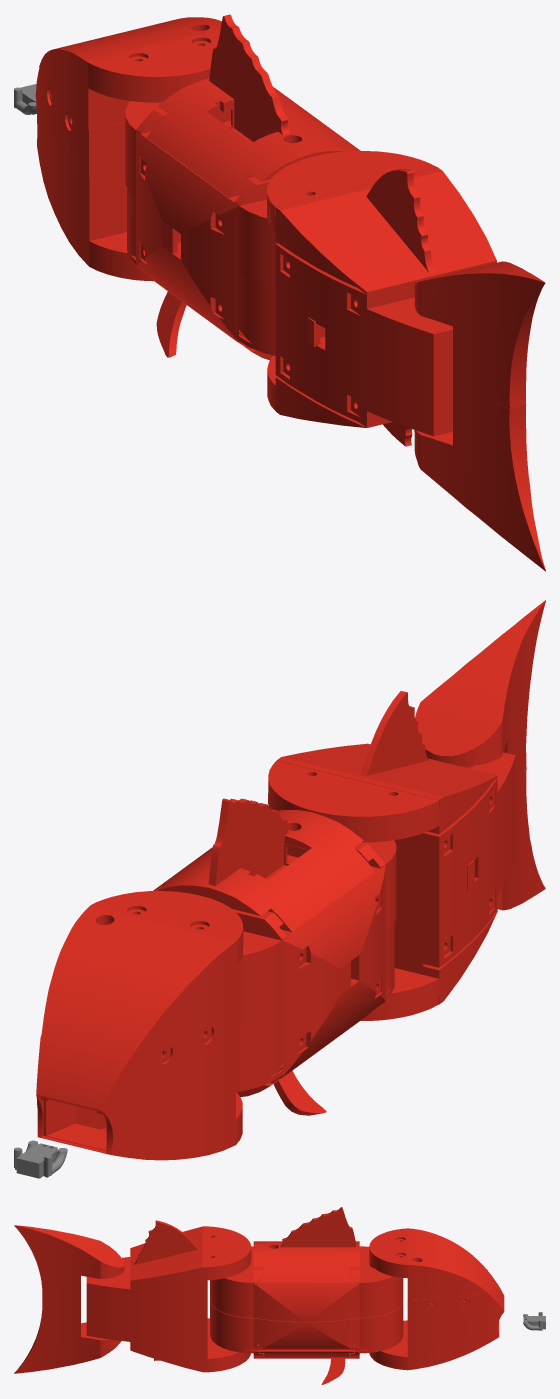
The picture shows the model from 3 angles, top to bottom: view 1: azimuth 30°, elevation 25°; view 2: azimuth 150°, elevation 25°; view 3: azimuth 270°, elevation 25°; orthographic projection. The views are drawn at different scales.
Visible parts, largest first — view 1: gyobot; view 2: gyobot; view 3: gyobot.
Boxes of the visible parts, bbox=[...] form: gyobot: bbox=[14, 14, 545, 571]; gyobot: bbox=[14, 600, 545, 1178]; gyobot: bbox=[14, 1207, 545, 1384].
Size of the model in its own units: 11.1 by 18.96 by 55.14.
